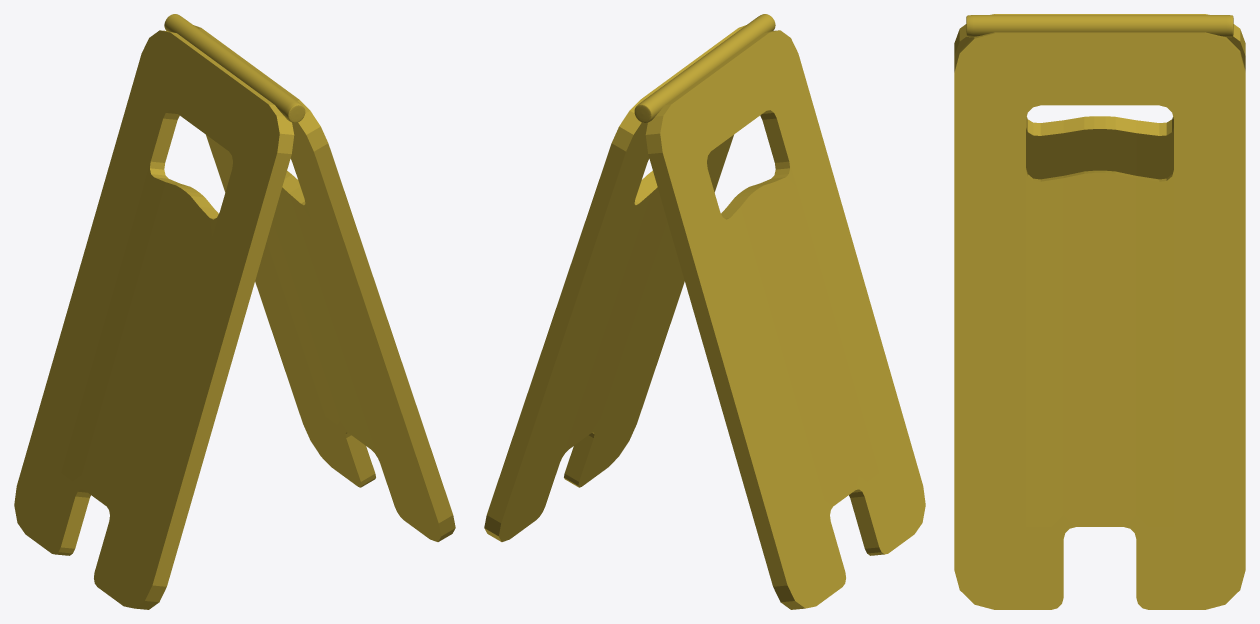
File: KayganZemin.fbx
3 views of the same model, side by side, from view 1: azimuth 30°, elevation 25°; view 2: azimuth 150°, elevation 25°; view 3: azimuth 270°, elevation 25° (orthographic). The views are drawn at different scales.
Visible parts, largest first — view 1: Cylinder; view 2: Cylinder; view 3: Cylinder.
Part boxes in pixels (bbox=[...]): Cylinder: bbox=[14, 14, 455, 609]; Cylinder: bbox=[484, 14, 925, 609]; Cylinder: bbox=[954, 14, 1245, 609].
Size of the model in its own units: 2.73 by 3.9 by 2.
